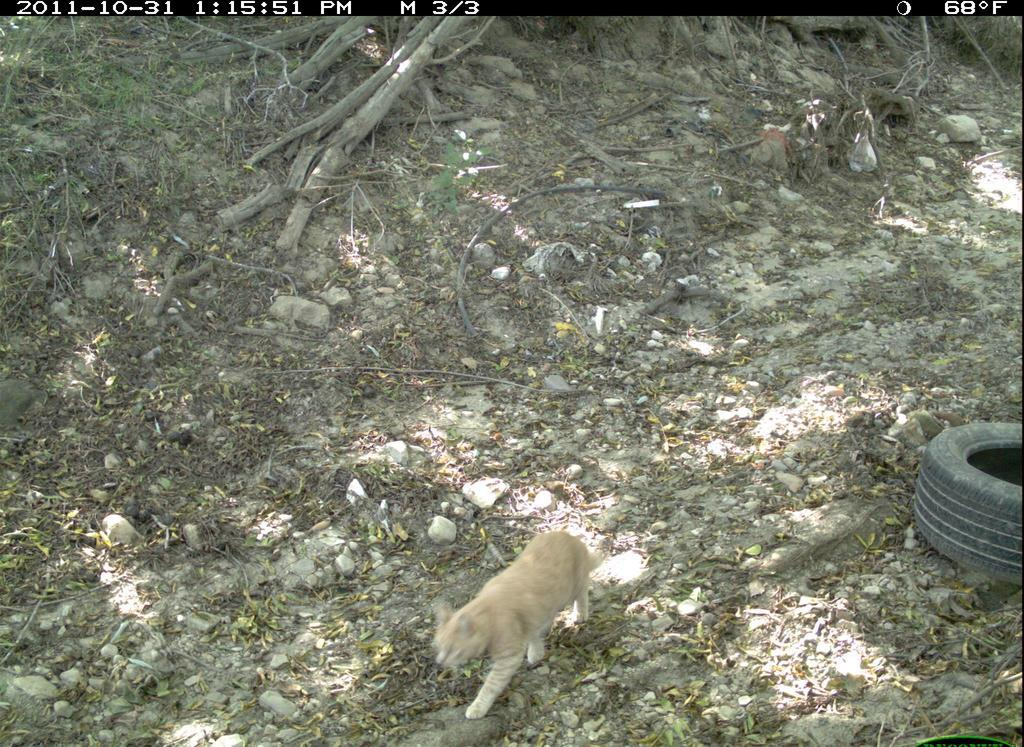cat: (431, 524, 621, 729)
